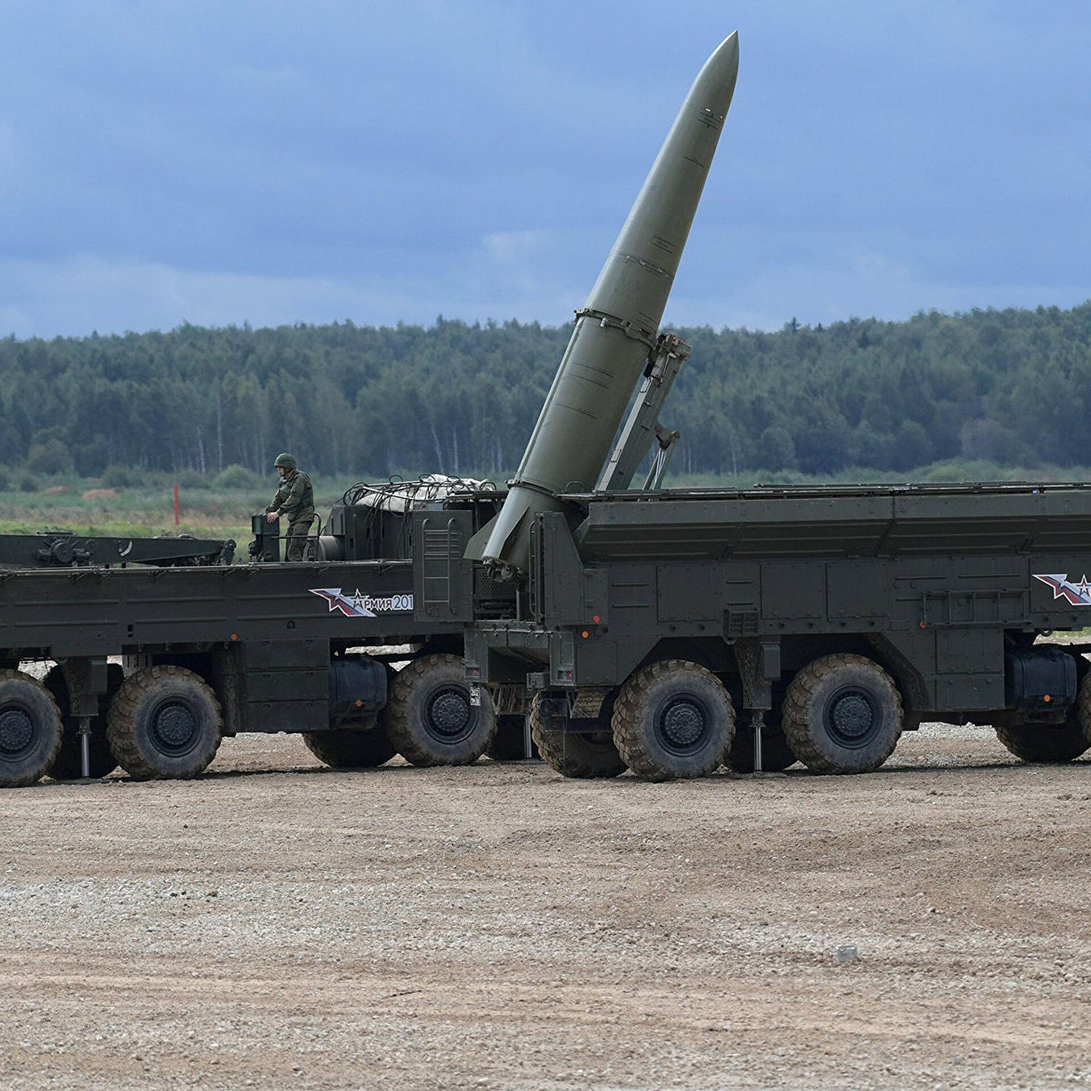rszo: (449, 22, 1091, 764), (7, 425, 571, 806)
